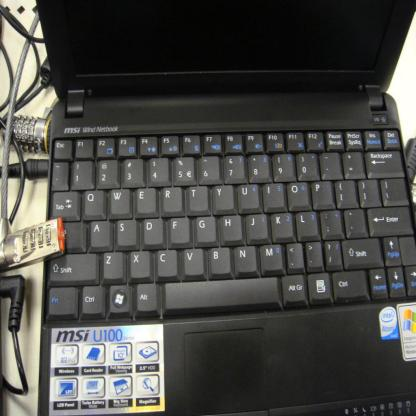board: (24, 0, 415, 416)
